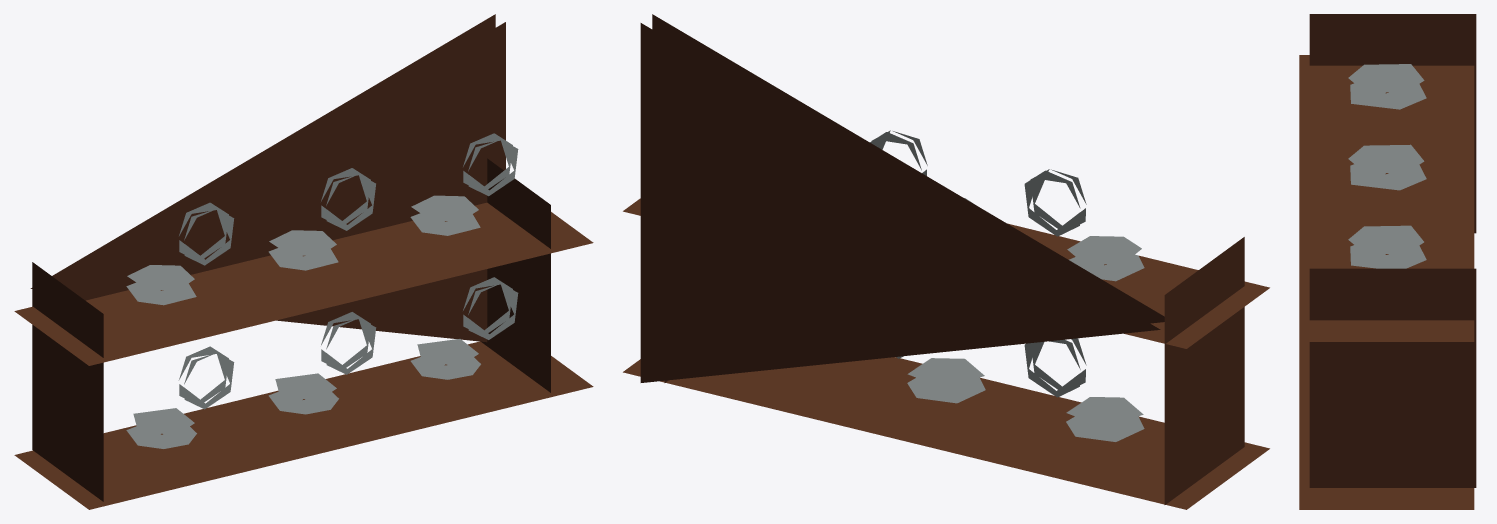
File: PewterTankardRack.glb
3 renders of one model, left to right at view 1: azimuth 30°, elevation 25°; view 2: azimuth 150°, elevation 25°; view 3: azimuth 270°, elevation 25°, orthographic. The views are drawn at different scales.
Visible parts, largest first — view 1: OakRackBack, RackShelf, RackShelf.001, RackUpright, RackUpright.001, PewterMug.003, PewterMug.005, PewterMug.001, PewterMug.004, PewterMug, PewterMug.002, MugHandle.002 (+5 smaller); view 2: OakRackBack, RackShelf, RackUpright, RackShelf.001, PewterMug.002, PewterMug, PewterMug.001, MugHandle.001, MugHandle; view 3: RackUpright.001, RackShelf.001, RackUpright, RackShelf, PewterMug.001, PewterMug.003, PewterMug.005.
Part boxes in pixels (left/top/right/bottom): OakRackBack: left=30, top=14, right=505, bottom=342; RackShelf: left=14, top=341, right=593, bottom=509; RackShelf.001: left=14, top=202, right=593, bottom=365; RackUpright: left=32, top=262, right=103, bottom=501; RackUpright.001: left=481, top=158, right=550, bottom=392; PewterMug.003: left=268, top=230, right=338, bottom=270; PewterMug.005: left=410, top=195, right=480, bottom=235; PewterMug.001: left=126, top=265, right=196, bottom=305; PewterMug.004: left=410, top=339, right=480, bottom=379; PewterMug: left=126, top=408, right=196, bottom=448; PewterMug.002: left=268, top=373, right=338, bottom=414; MugHandle.002: left=321, top=312, right=376, bottom=374; OakRackBack: left=640, top=14, right=1164, bottom=382; RackShelf: left=623, top=357, right=1269, bottom=509; RackUpright: left=1164, top=237, right=1244, bottom=504; RackShelf.001: left=623, top=198, right=1269, bottom=348; PewterMug.002: left=907, top=358, right=985, bottom=403; PewterMug: left=1066, top=397, right=1144, bottom=441; PewterMug.001: left=1067, top=236, right=1144, bottom=281; MugHandle.001: left=1024, top=169, right=1086, bottom=236; MugHandle: left=1024, top=338, right=1086, bottom=397; RackUpright.001: left=1309, top=268, right=1476, bottom=487; RackShelf.001: left=1299, top=55, right=1474, bottom=341; RackUpright: left=1309, top=14, right=1476, bottom=233; RackShelf: left=1299, top=342, right=1474, bottom=509; PewterMug.001: left=1348, top=64, right=1426, bottom=109; PewterMug.003: left=1348, top=144, right=1426, bottom=190; PewterMug.005: left=1348, top=225, right=1426, bottom=268.
Size of the model in its own units: 3.34 by 2.04 by 0.9.
